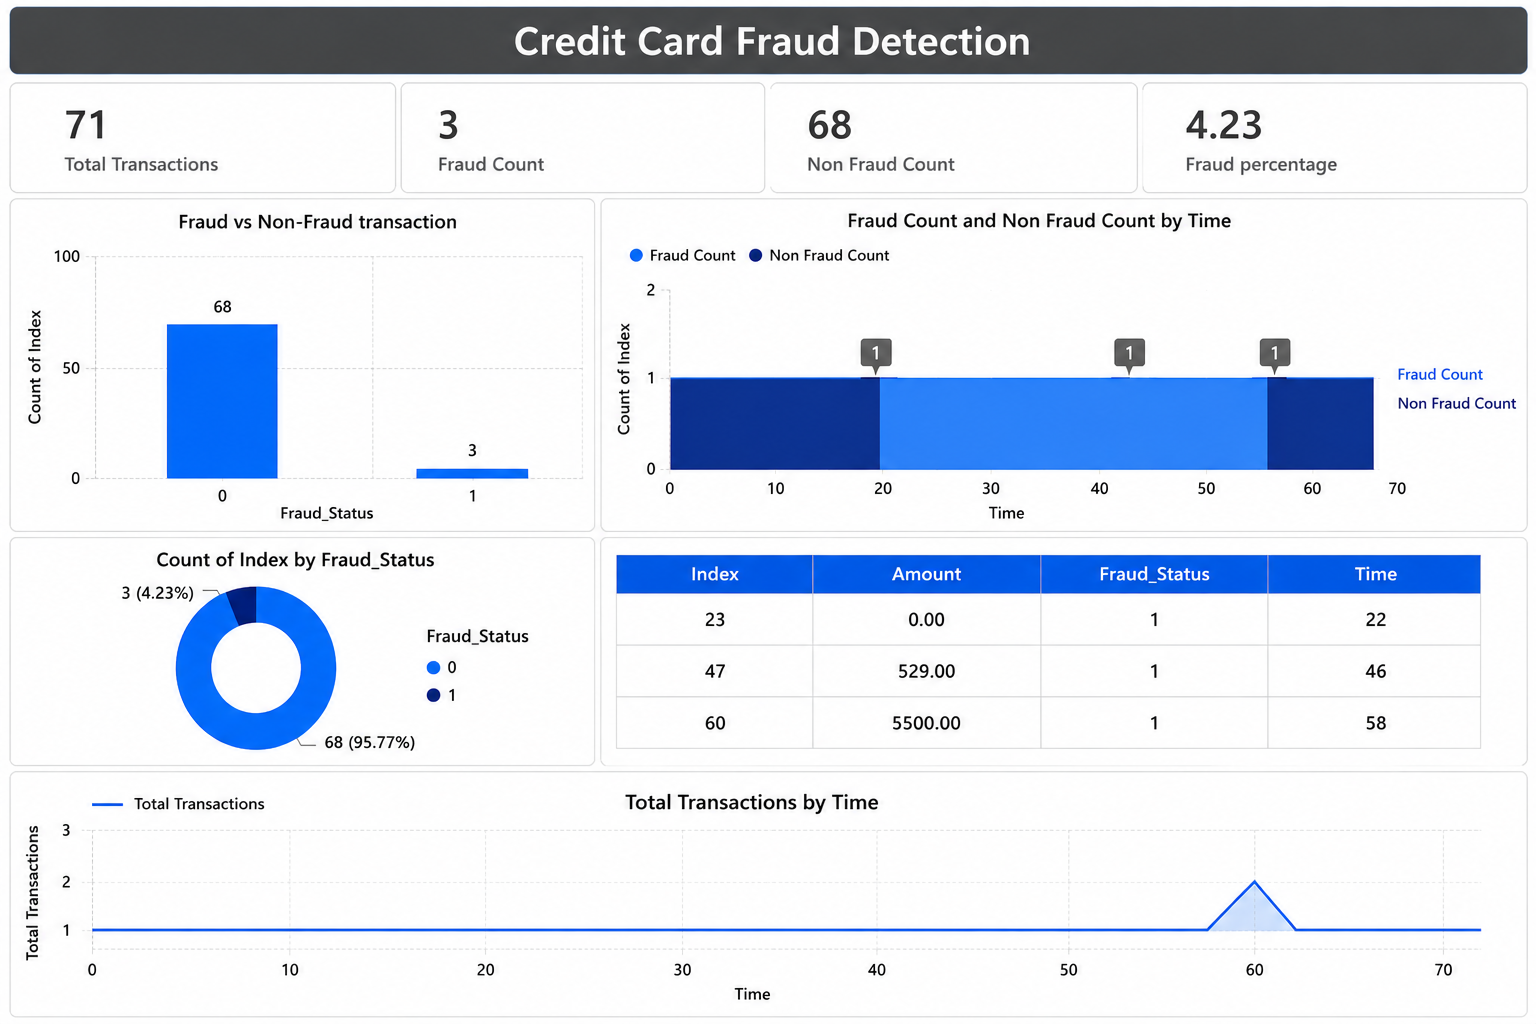

This screenshot's page, from the dashboard's own definition file:
{"tool":"powerbi","page":{"name":"Page 1","canvas":[1280,720],"ordinal":0},"visuals":[{"type":"shape","box":[45.4,15.1,1190.6,73.7],"z":0},{"type":"clusteredColumnChart","title":"Fraud vs Non-Fraud transaction","fields":{"Y":["CountNonNull(Sheet1.Index)"],"Category":["Sheet1.Fraud_Status"]},"box":[18.8,201.6,461.1,243.8],"z":1000},{"type":"donutChart","fields":{"Category":["Sheet1.Fraud_Status"],"Y":["CountNonNull(Sheet1.Index)"]},"box":[762.6,489.5,456.3,208.4],"z":2000},{"type":"lineChart","fields":{"Category":["Sheet1.Time"],"Y":["Sheet1.Fraud Count","Sheet1.Non Fraud Count"]},"box":[497,201.6,479.8,262.6],"z":3000},{"type":"cardVisual","fields":{"Data":["Sheet1.Total Transactions"]},"box":[46.9,89.1,318.8,100],"z":4000},{"type":"cardVisual","fields":{"Data":["Sheet1.Fraud Count"]},"box":[365.7,89.1,275.1,100],"z":5000},{"type":"cardVisual","fields":{"Data":["Sheet1.Non Fraud Count"]},"box":[640.8,89.1,292.3,100],"z":6000},{"type":"cardVisual","fields":{"Data":["Sheet1.Fraud percentage"]},"box":[933.1,89.1,318.8,100],"z":7000},{"type":"lineChart","fields":{"Category":["Sheet1.Time"],"Y":["Sheet1.Total Transactions"]},"box":[18.9,489.5,718.4,205.3],"z":8000},{"type":"tableEx","fields":{"Values":["Sum(Sheet1.Index)","Sum(Sheet1.Amount)","Sum(Sheet1.Fraud_Status)","Sum(Sheet1.Time)"]},"box":[990.9,223.5,268.8,217.3],"z":9000}]}

Visuals, with their boxes on the page's 1280x720 design canvas (x1, y1, x2, y2). These are canvas units, not pixel positions in the 1536x1024 screenshot, which may show the page scaled, cropped or inside an application window:
shape: pyautogui.locateOnScreen(45, 15, 1236, 89)
"Fraud vs Non-Fraud transaction" clusteredColumnChart: pyautogui.locateOnScreen(19, 202, 480, 445)
donutChart - Sheet1.Fraud_Status x CountNonNull(Sheet1.Index): pyautogui.locateOnScreen(763, 490, 1219, 698)
lineChart - Sheet1.Time x Sheet1.Fraud Count: pyautogui.locateOnScreen(497, 202, 977, 464)
cardVisual - Sheet1.Total Transactions: pyautogui.locateOnScreen(47, 89, 366, 189)
cardVisual - Sheet1.Fraud Count: pyautogui.locateOnScreen(366, 89, 641, 189)
cardVisual - Sheet1.Non Fraud Count: pyautogui.locateOnScreen(641, 89, 933, 189)
cardVisual - Sheet1.Fraud percentage: pyautogui.locateOnScreen(933, 89, 1252, 189)
lineChart - Sheet1.Time x Sheet1.Total Transactions: pyautogui.locateOnScreen(19, 490, 737, 695)
tableEx - Sum(Sheet1.Index) x Sum(Sheet1.Amount): pyautogui.locateOnScreen(991, 224, 1260, 441)
